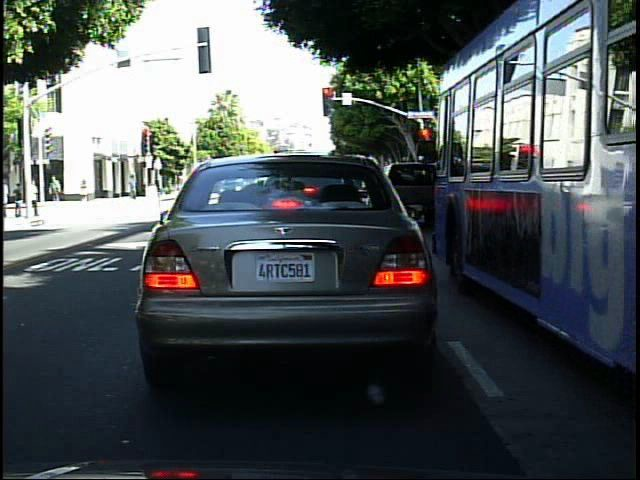person: (76, 170, 94, 208), (11, 179, 26, 221), (48, 170, 67, 203), (125, 170, 143, 204), (30, 172, 43, 216)
